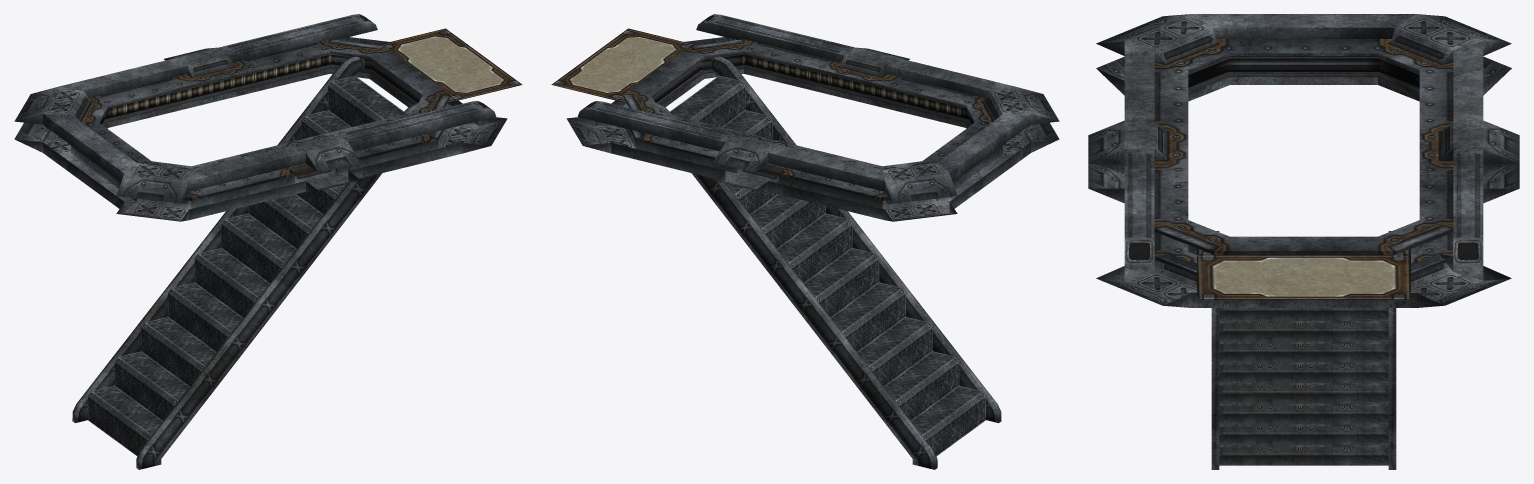
The model's file is metal_flip_closable.dae.
3 renders of one model, left to right at view 1: azimuth 30°, elevation 25°; view 2: azimuth 150°, elevation 25°; view 3: azimuth 270°, elevation 25°, orthographic. The views are drawn at different scales.
Visible parts, largest first — view 1: polySurface969, polySurface972, polySurface961; view 2: polySurface969, polySurface972, polySurface961; view 3: polySurface972, polySurface969, polySurface961.
Boxes of the visible parts, <box> form: polySurface969: <box>72,56,418,469</box>; polySurface972: <box>14,14,522,221</box>; polySurface961: <box>71,39,450,200</box>; polySurface969: <box>655,56,1001,469</box>; polySurface972: <box>551,14,1059,221</box>; polySurface961: <box>623,39,1002,200</box>; polySurface972: <box>1088,14,1519,307</box>; polySurface969: <box>1211,231,1396,469</box>; polySurface961: <box>1154,39,1453,276</box>.
Size of the model in its own units: 6.28 by 4.4 by 4.04.
